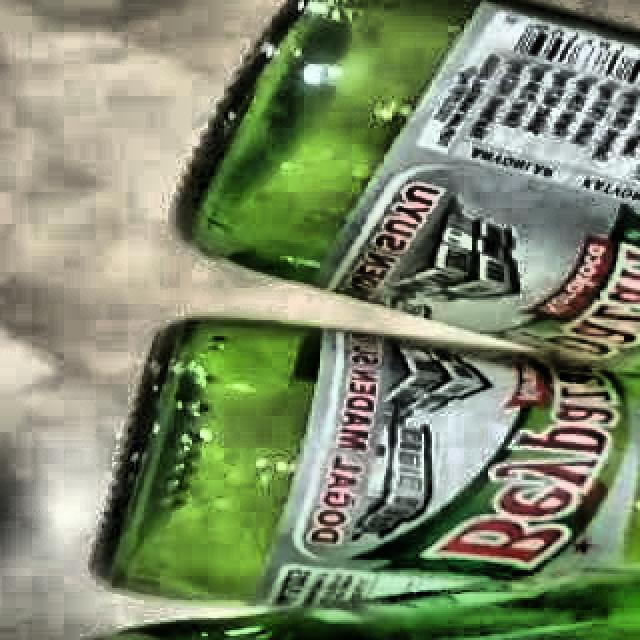glass: (93, 0, 640, 640)
